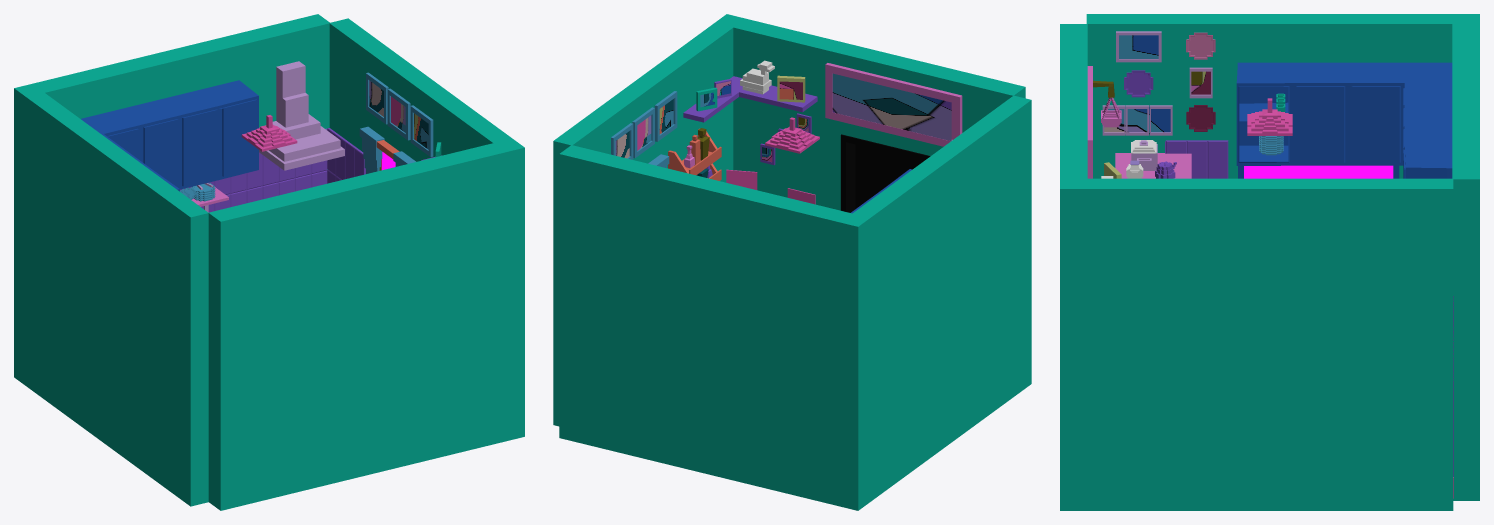
The model's file is Kitchen 1.fbx.
3 views of the same model, side by side, from view 1: azimuth 30°, elevation 25°; view 2: azimuth 150°, elevation 25°; view 3: azimuth 270°, elevation 25° (orthographic). The views are drawn at different scales.
Parts seen in each view (by area): view 1: Side 2, Side 1, Oven, Lamp; view 2: Side 1, Side 2, Lamp, Table; view 3: Side 2, Side 1, Fridge, Lamp.
Boxes of the visible parts, left/top/right/bottom form: Side 2: left=208, top=18, right=524, bottom=510; Side 1: left=14, top=14, right=329, bottom=506; Oven: left=259, top=61, right=344, bottom=170; Lamp: left=241, top=115, right=297, bottom=151; Side 1: left=559, top=95, right=1031, bottom=510; Side 2: left=553, top=14, right=1025, bottom=426; Lamp: left=765, top=117, right=819, bottom=153; Table: left=726, top=169, right=815, bottom=204; Side 2: left=1060, top=24, right=1453, bottom=510; Side 1: left=1086, top=14, right=1479, bottom=500; Fridge: left=1115, top=140, right=1191, bottom=178; Lamp: left=1247, top=98, right=1292, bottom=135.
Bounding box in the file's own units: 225 × 194 × 228.
